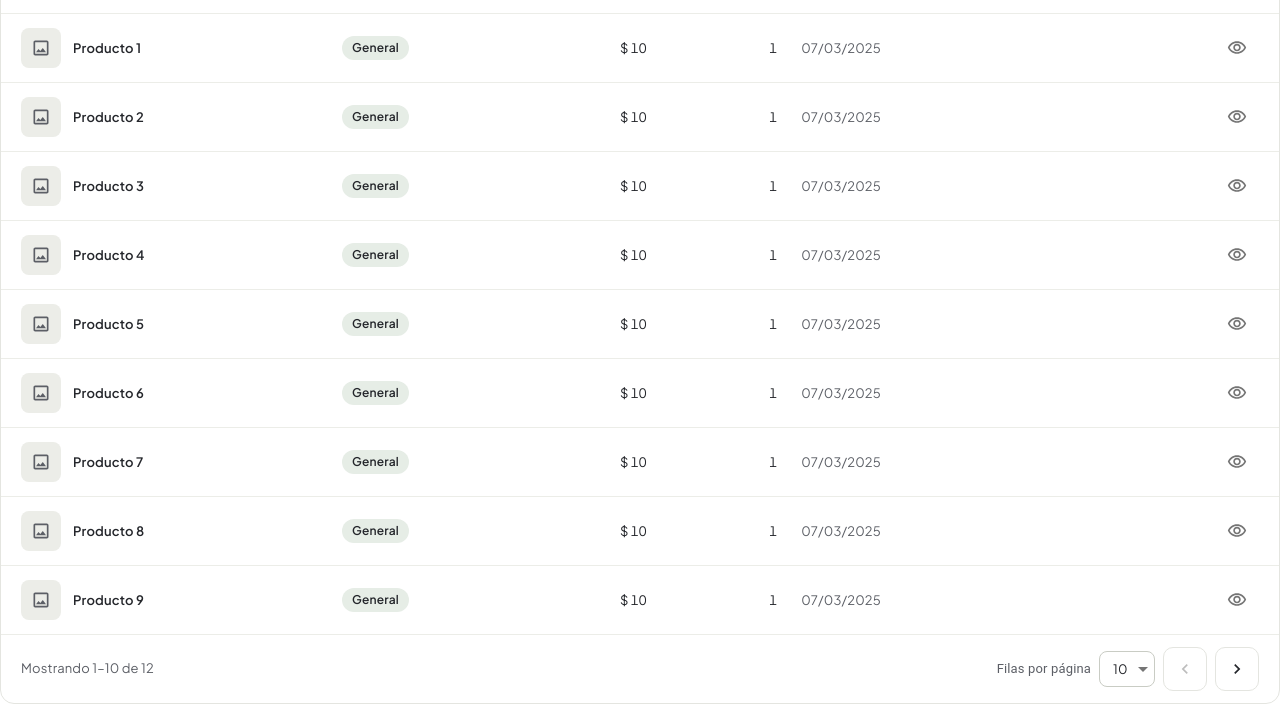
InventoryPage › requests offset 10 for the next page
(page scrolled)
Click the button named "Página siguiente": click(1237, 669) [1215,647,1259,691]
(page scrolled)
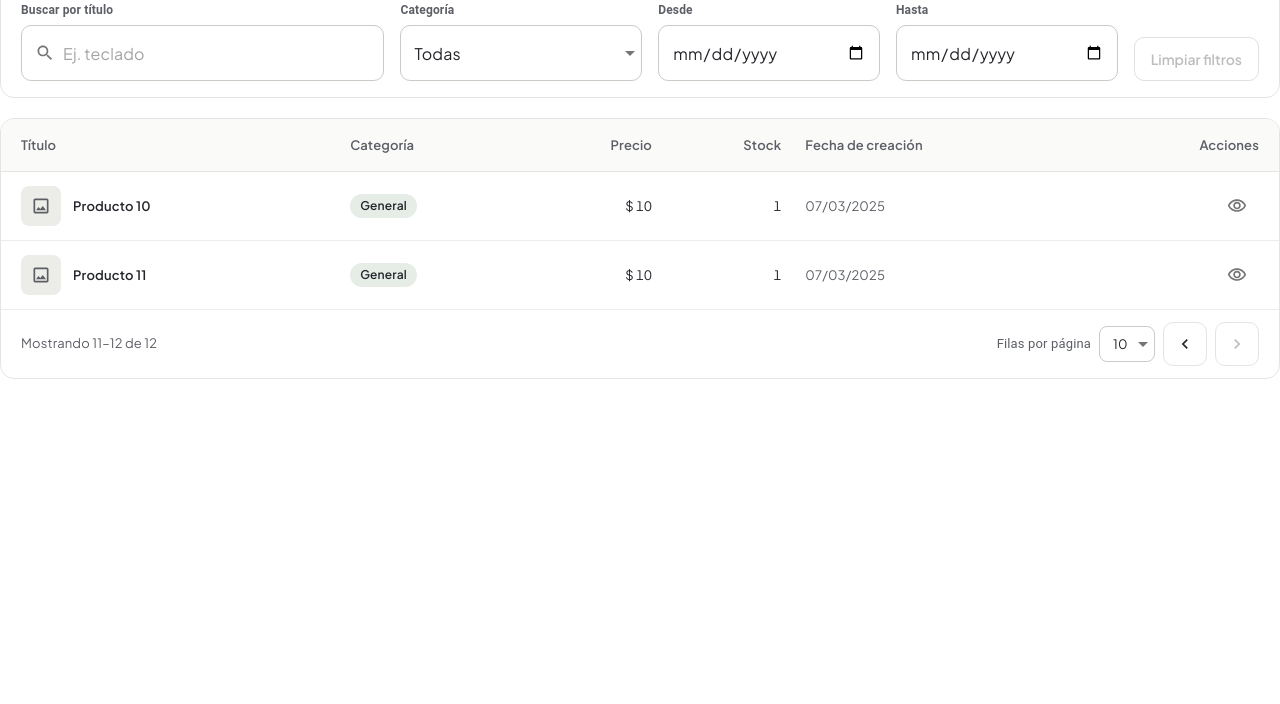
Check: the text "Producto 10" is shown, box [73,197,151,215]
